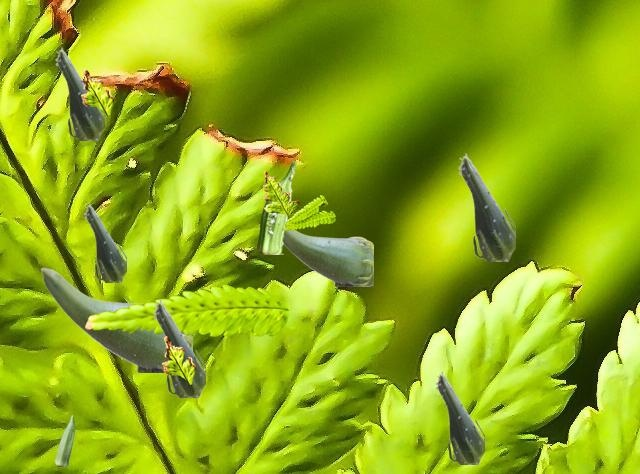okra: (40, 267, 191, 371), (458, 153, 514, 260), (153, 299, 204, 396), (284, 230, 372, 285), (55, 47, 103, 139), (435, 371, 483, 463), (257, 161, 295, 253), (84, 203, 125, 281), (55, 415, 73, 465)
